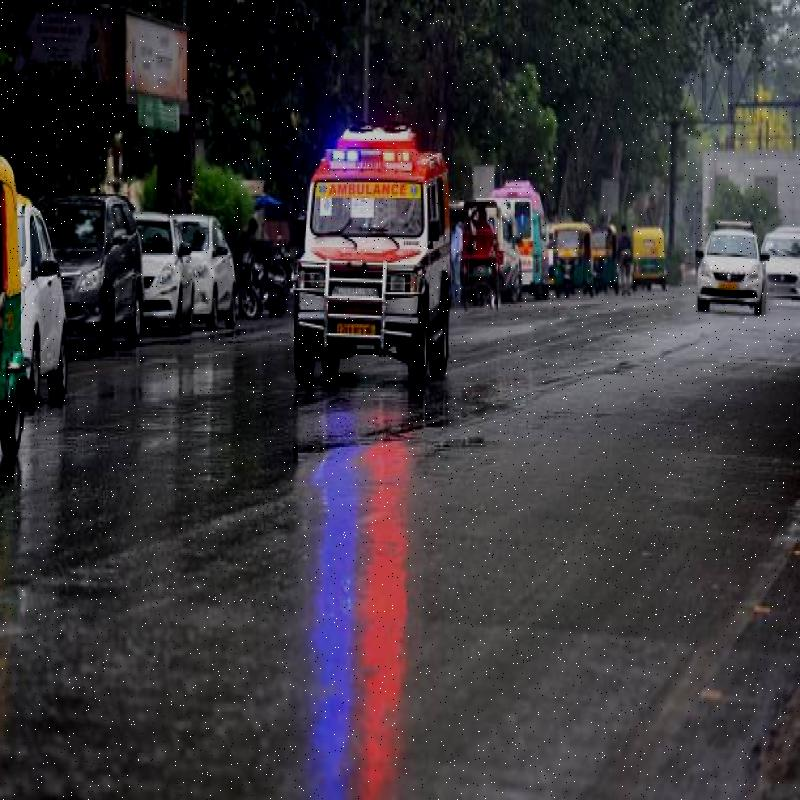ambulance: (290, 130, 452, 410)
